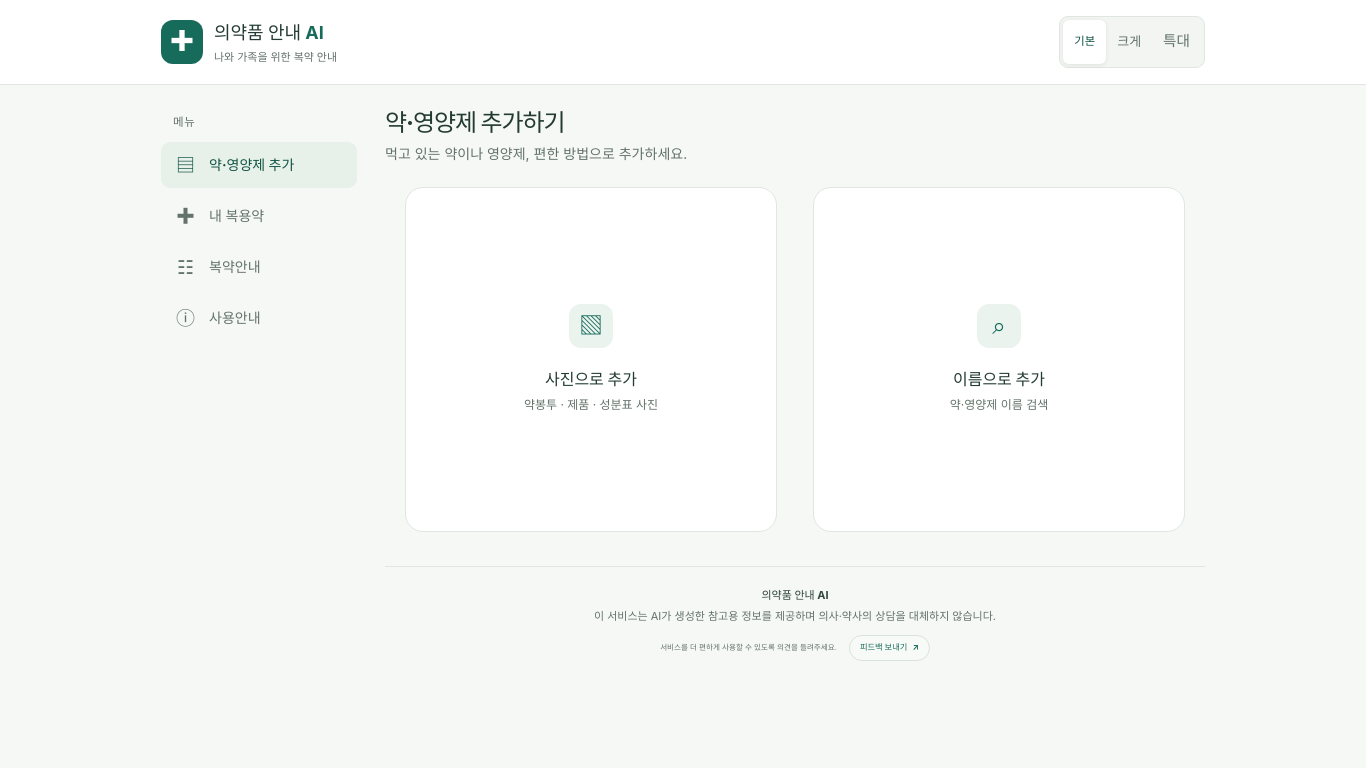
첫 화면은 두 선택만 표시하고 입력은 팝업으로 연다
Click the button "▧ 사진으로 추가 약봉투 · 제품 · 성분표 사진" at (591, 326), box [405,187,777,532]
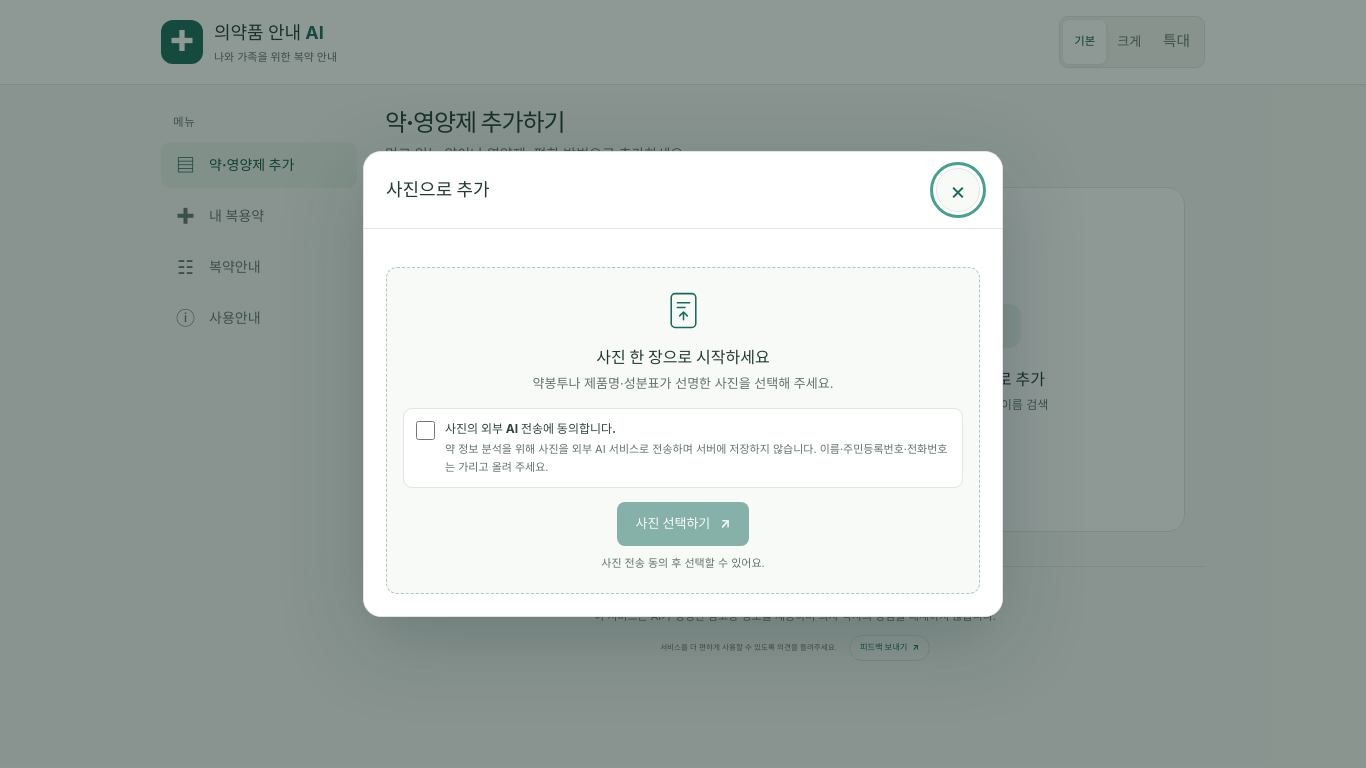
Check: the dialog "사진으로 추가" is shown, box [363,151,1003,617]
Check: the file field named "약봉투 또는 제품·성분표 사진 선택" is disabled, box [618,502,748,546]
Click the button named "입력 창 닫기" at (958, 190), box [936,168,980,212]
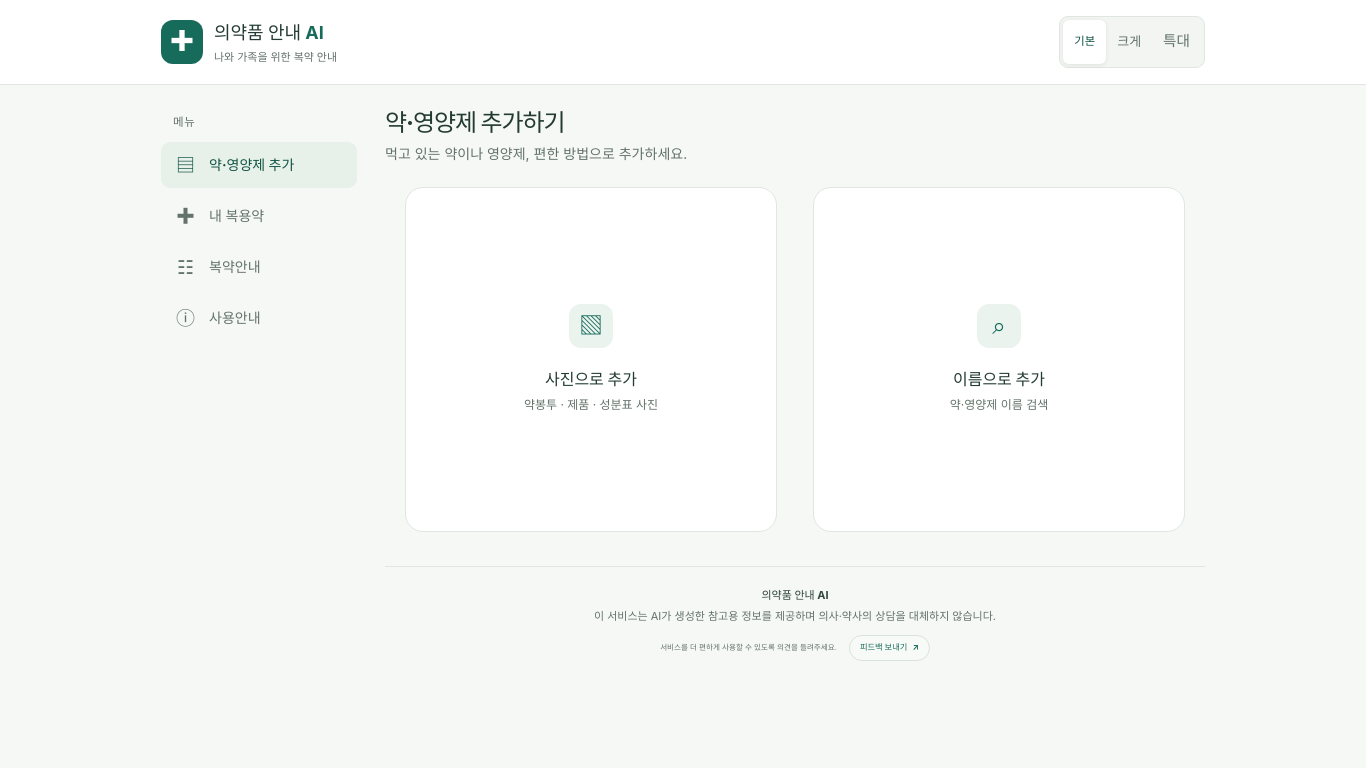
Check: the dialog is gone
